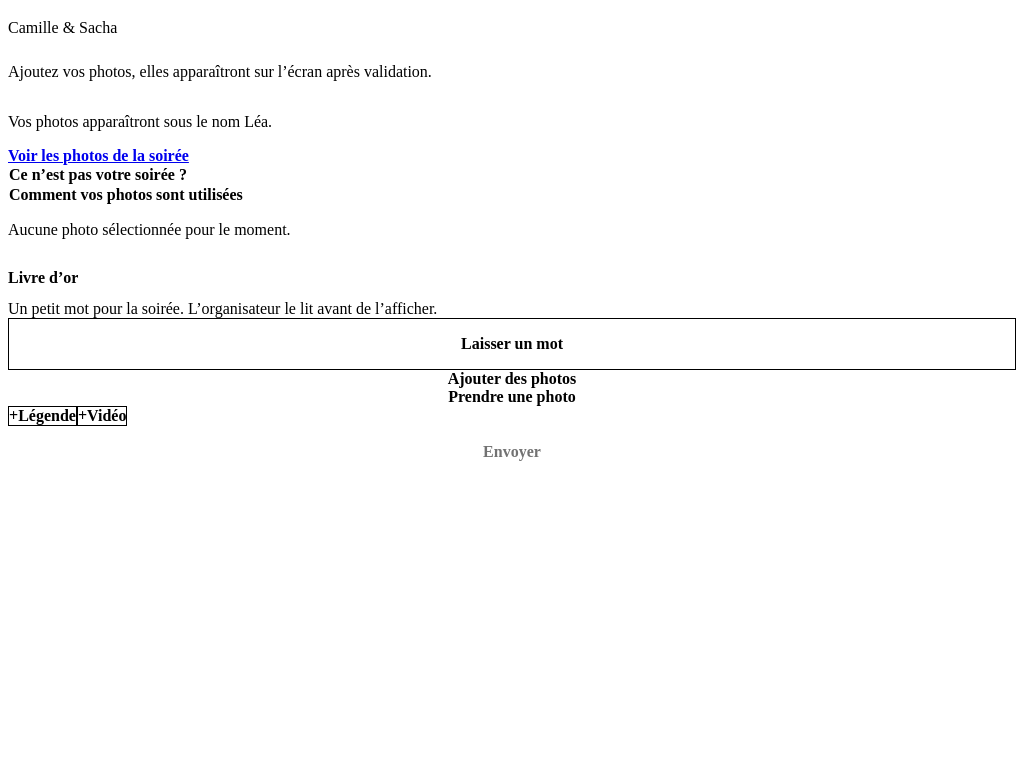
Test: GuestUploadPage, the guestbook › thanks the guest in the words of an event that publishes on arrival, from what the server decided
Click the button "Laisser un mot" at (512,344), box [8,318,1016,370]
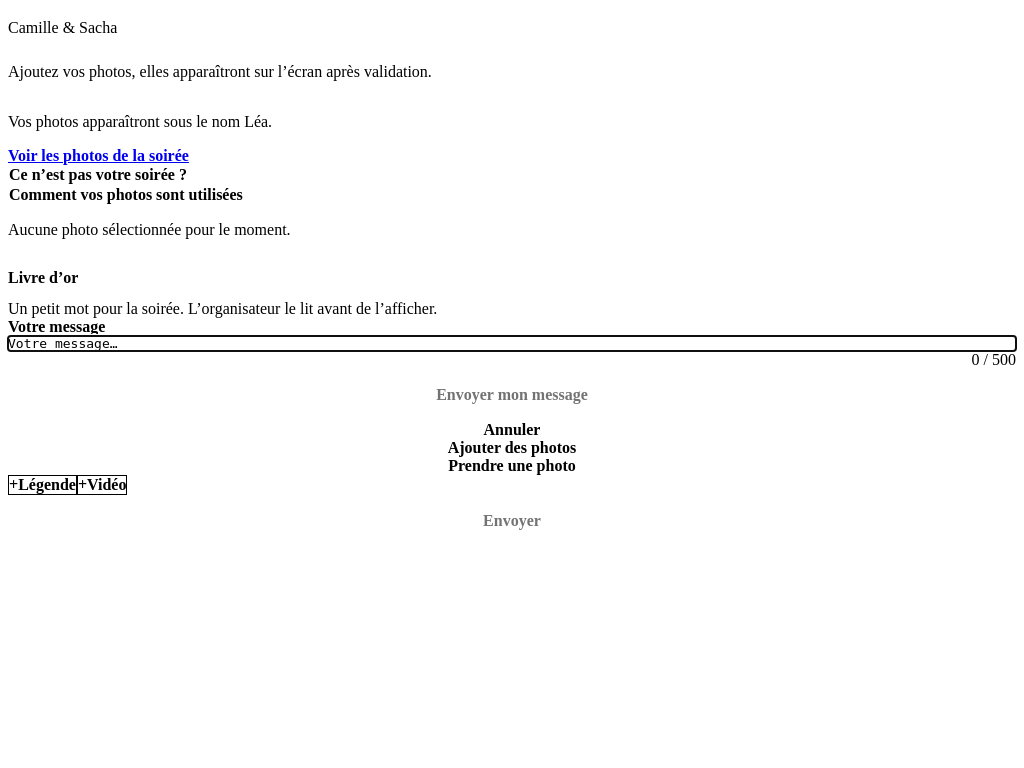
Type "Merci" into the text box labelled "Votre message" at (512,344), box [8,336,1016,351]
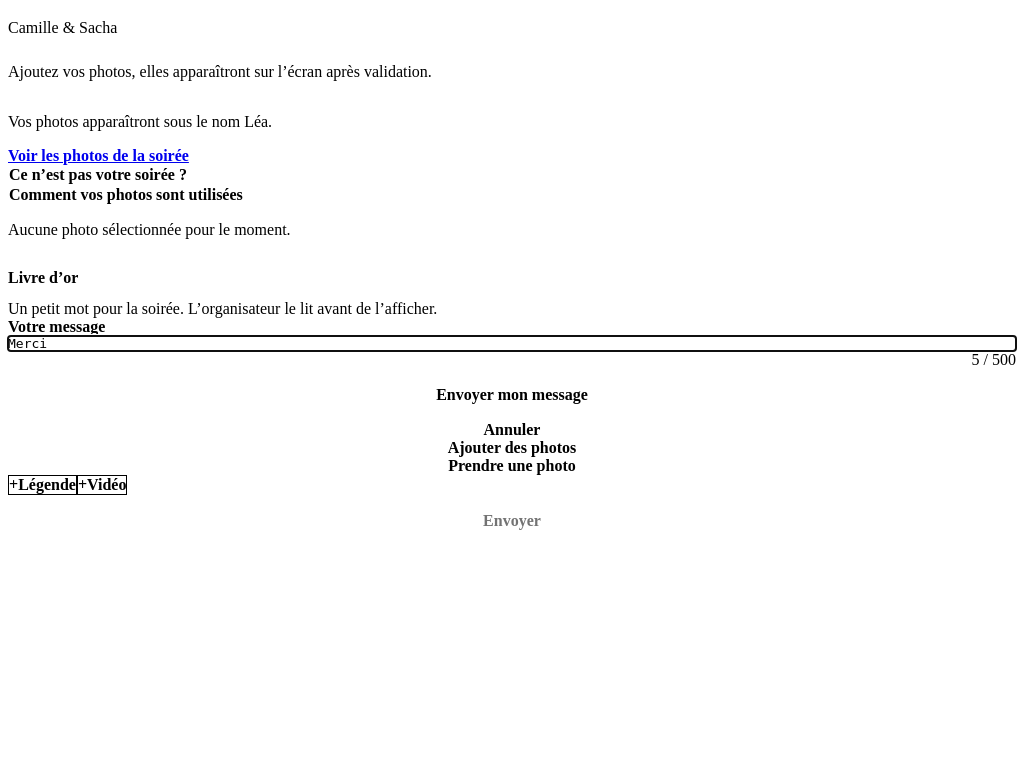
Click the button "Envoyer mon message" at (512,395), box [8,369,1016,421]
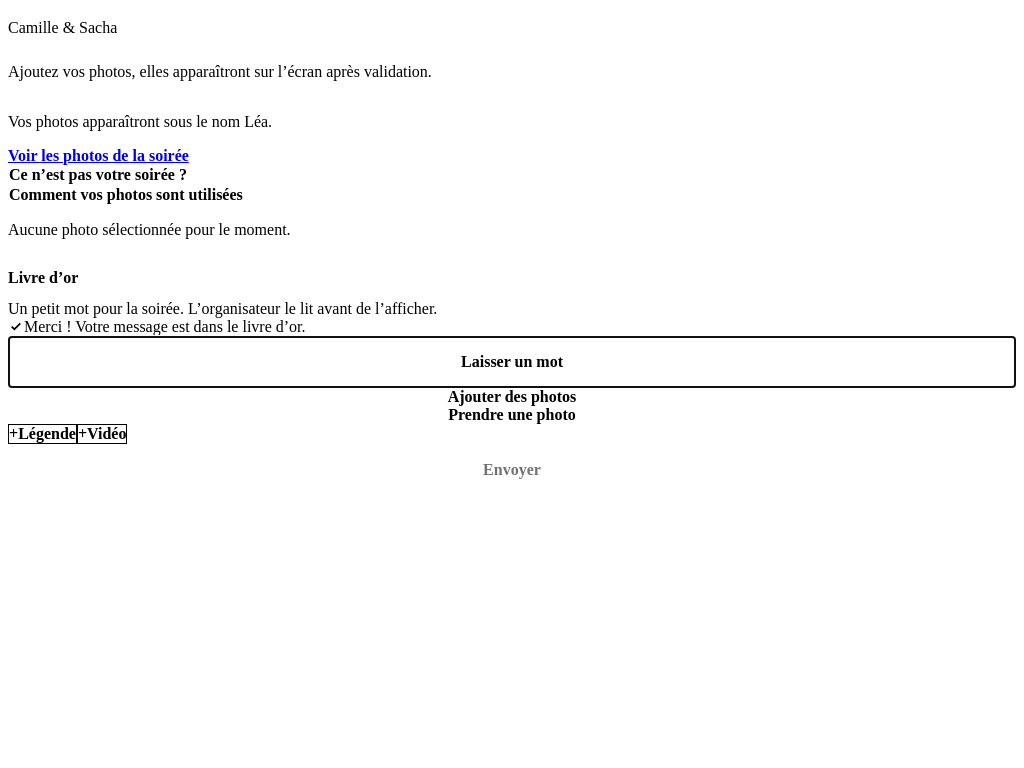
Result: the text "Merci ! Votre message est dans le livre d’or." is shown at [24,318,306,336]
